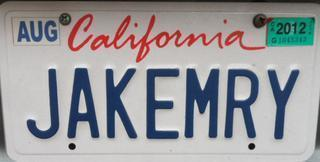placa de veiculo: (4, 2, 308, 158)
